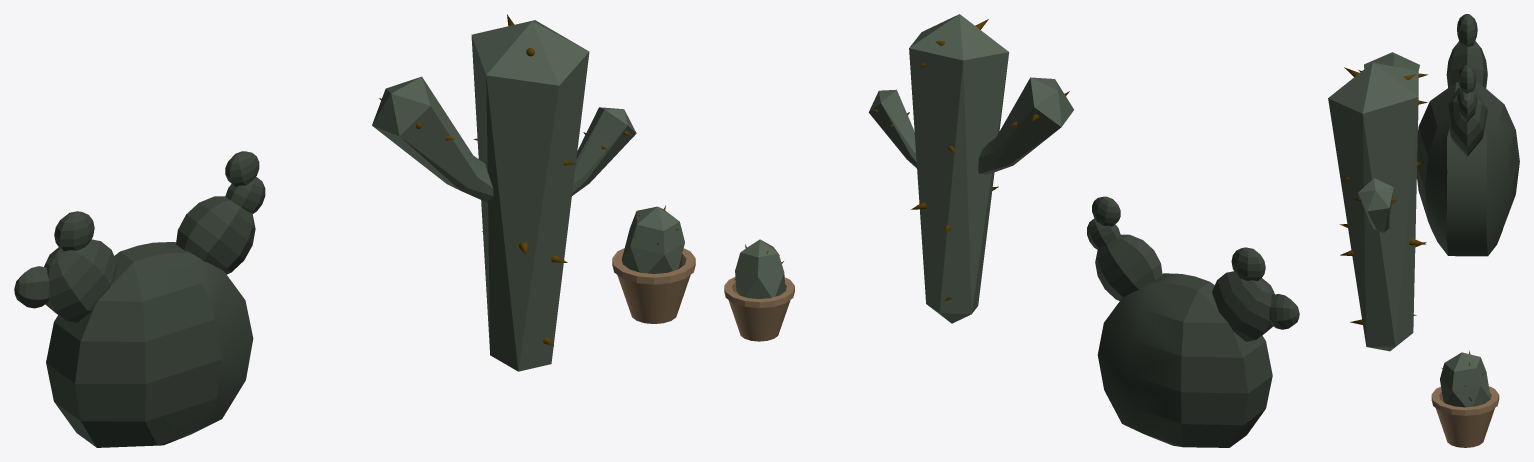
Rendered from Cacti_kleur (1).fbx.
3 views of the same model, side by side, from view 1: azimuth 30°, elevation 25°; view 2: azimuth 150°, elevation 25°; view 3: azimuth 270°, elevation 25° (orthographic). The views are drawn at different scales.
Parts seen in each view (by area): view 1: pSphere7, polySurface76, polySurface84; view 2: pSphere7, polySurface76, polySurface84; view 3: polySurface76, pSphere7, polySurface84.
Boxes of the visible parts, box(x1,y1,x2,y2) form: pSphere7: box(14, 151, 265, 447); polySurface76: box(372, 14, 636, 371); polySurface84: box(612, 205, 695, 323); pSphere7: box(1087, 196, 1299, 447); polySurface76: box(868, 14, 1073, 323); polySurface84: box(724, 239, 794, 341); polySurface76: box(1328, 52, 1428, 351); pSphere7: box(1417, 14, 1519, 256); polySurface84: box(1431, 351, 1499, 447).
Size of the model in its own units: 7.57 by 4.07 by 2.31.
